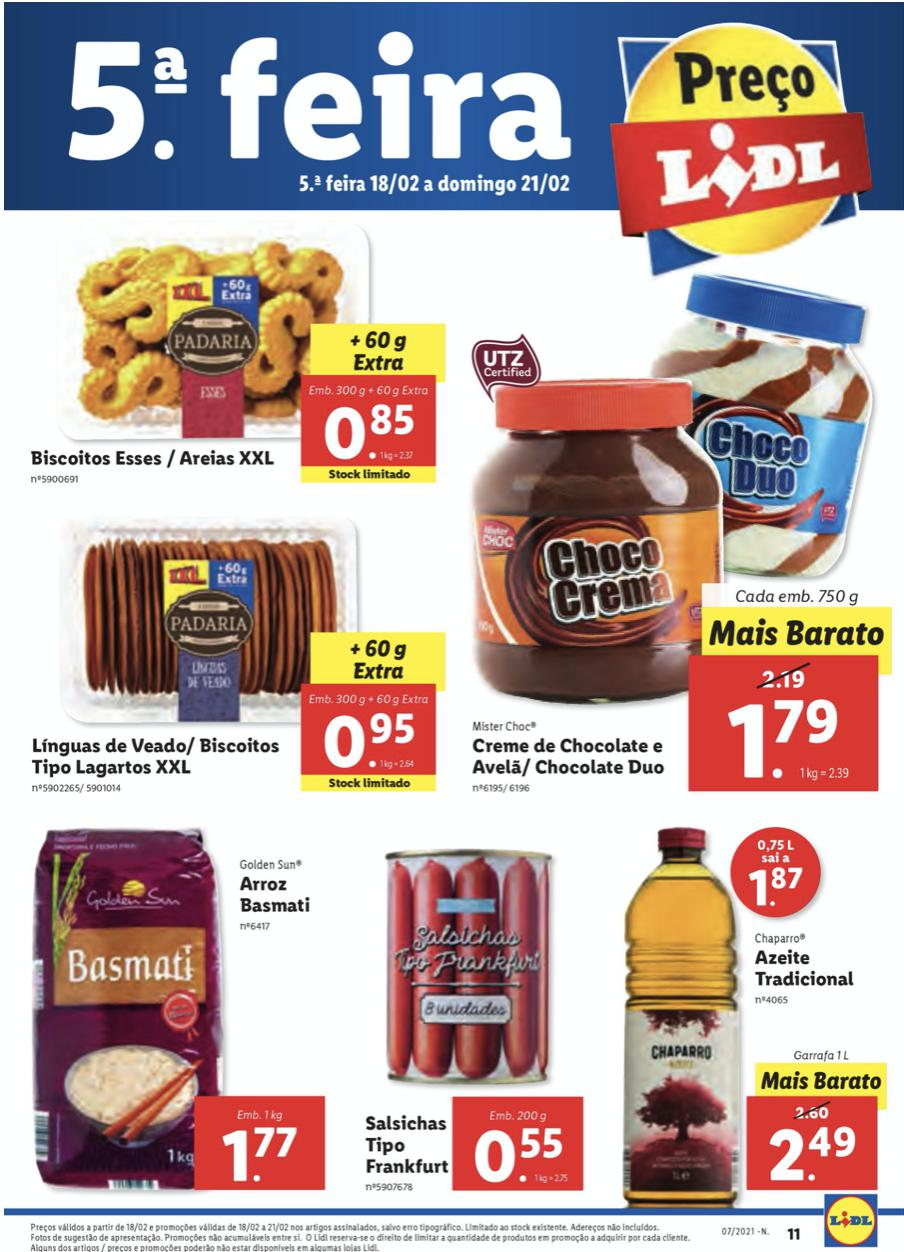name: (27, 731, 284, 781), (466, 734, 673, 781), (30, 439, 280, 472), (366, 1116, 453, 1178), (753, 947, 861, 992), (233, 873, 317, 919)
price: (720, 691, 844, 784), (320, 400, 423, 464), (325, 706, 422, 773), (469, 1119, 566, 1184), (766, 1122, 861, 1186), (219, 1125, 297, 1186)
product: (452, 252, 881, 808), (597, 817, 897, 1219), (17, 530, 450, 808), (19, 819, 334, 1194), (27, 216, 447, 492), (341, 820, 597, 1198)
